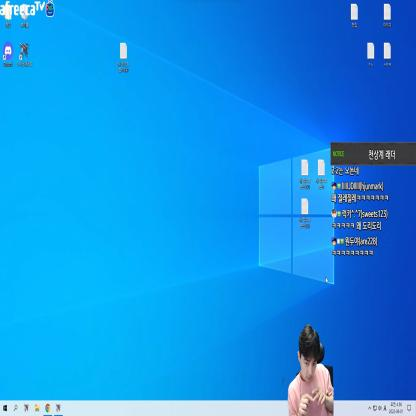streamer: (287, 324, 333, 416)
